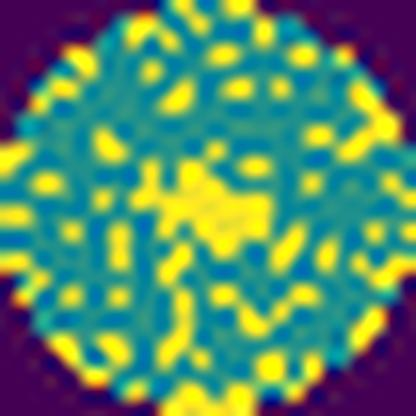Center: (136, 153, 286, 264)
